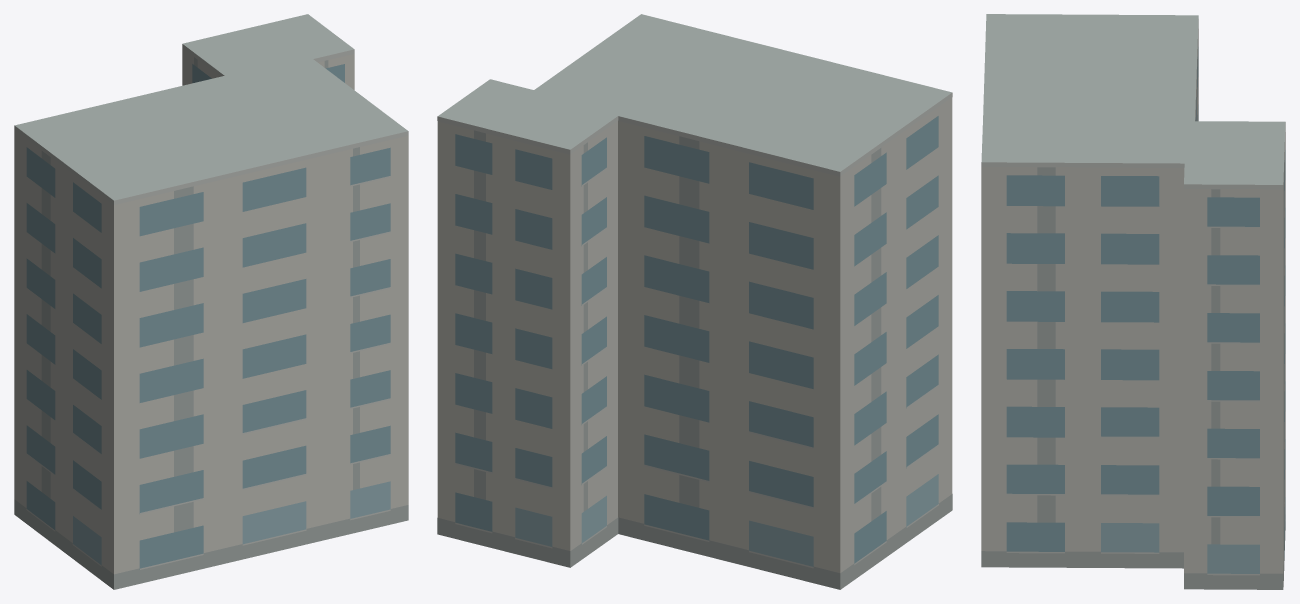
The model's file is residential-4fd4fafc-d679-438c-be14-4c535cb2d8fa.glb.
3 views of the same model, side by side, from view 1: azimuth 30°, elevation 25°; view 2: azimuth 150°, elevation 25°; view 3: azimuth 270°, elevation 25° (orthographic). The views are drawn at different scales.
Visible parts, largest first — view 1: residential-4fd4fafc-d679-438c-be14-4c535cb2d8fa.tmp; view 2: residential-4fd4fafc-d679-438c-be14-4c535cb2d8fa.tmp; view 3: residential-4fd4fafc-d679-438c-be14-4c535cb2d8fa.tmp.
Boxes of the visible parts, x1,y1,x2,y2 form: residential-4fd4fafc-d679-438c-be14-4c535cb2d8fa.tmp: (14, 14, 408, 589); residential-4fd4fafc-d679-438c-be14-4c535cb2d8fa.tmp: (437, 14, 952, 589); residential-4fd4fafc-d679-438c-be14-4c535cb2d8fa.tmp: (981, 14, 1285, 589).
Size of the model in its own units: 19.34 by 21.35 by 14.54.
